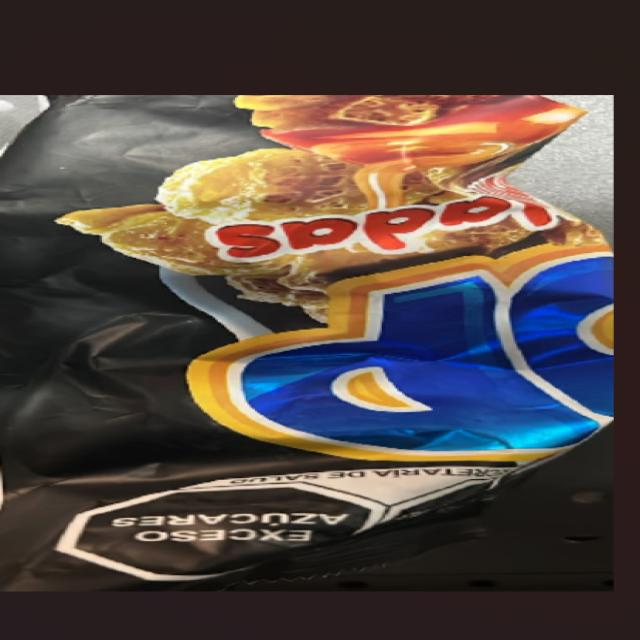popKarameladas: (6, 95, 640, 596)
